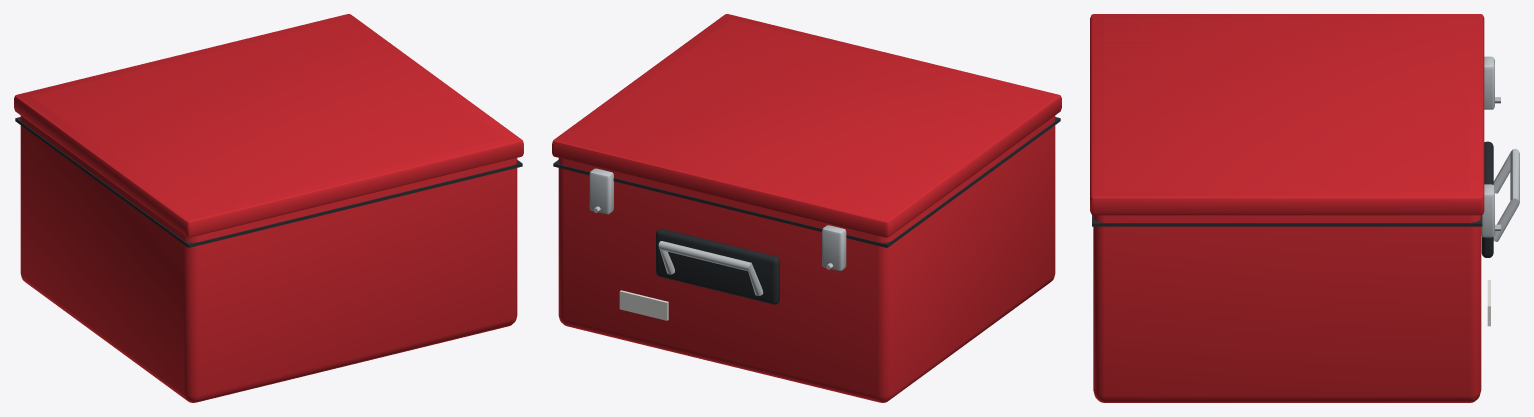
File: ob_chain_saw_kit.glb
3 renders of one model, left to right at view 1: azimuth 30°, elevation 25°; view 2: azimuth 150°, elevation 25°; view 3: azimuth 270°, elevation 25°, orthographic. The views are drawn at different scales.
Parts seen in each view (by area): view 1: ob_chain_saw_kit; view 2: ob_chain_saw_kit; view 3: ob_chain_saw_kit.
Part boxes in pixels (x1,y1,x2,y2): ob_chain_saw_kit: (14,14,523,402); ob_chain_saw_kit: (552,14,1061,402); ob_chain_saw_kit: (1090,14,1519,402).
Bounding box in the file's own units: 0.49 × 0.26 × 0.48.
